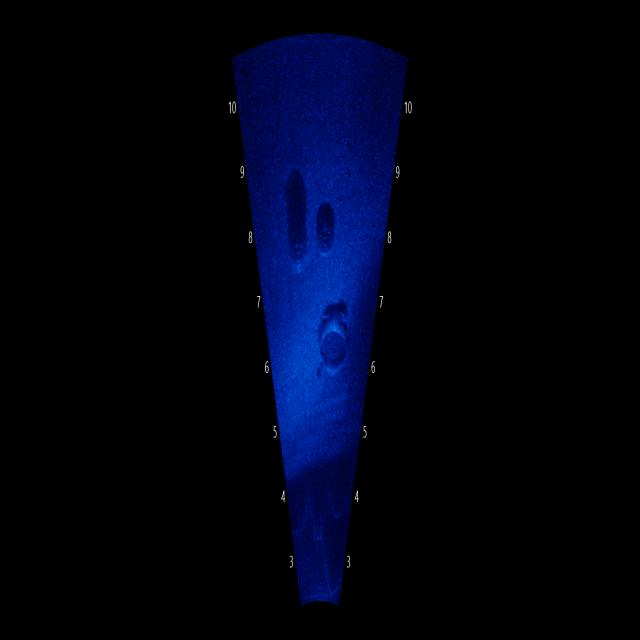circle: (304, 298, 366, 406), (308, 195, 344, 275), (279, 217, 315, 286)
